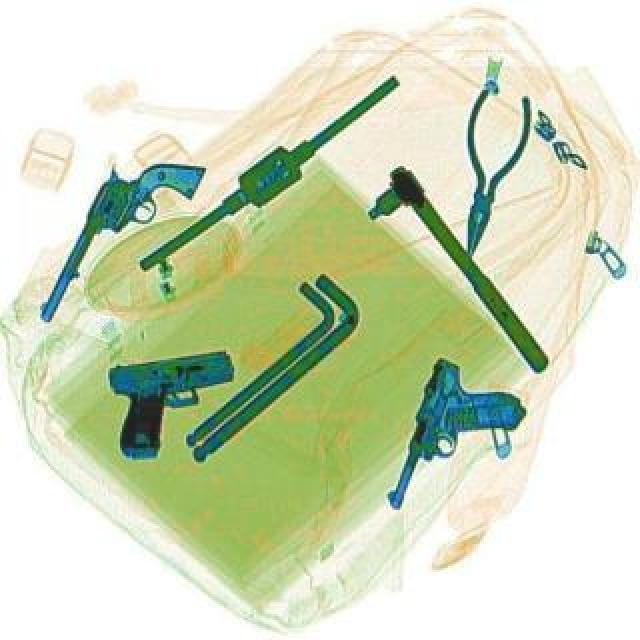gun: (32, 138, 206, 354), (380, 354, 538, 538), (104, 350, 248, 468)
wrench: (436, 90, 536, 268)
